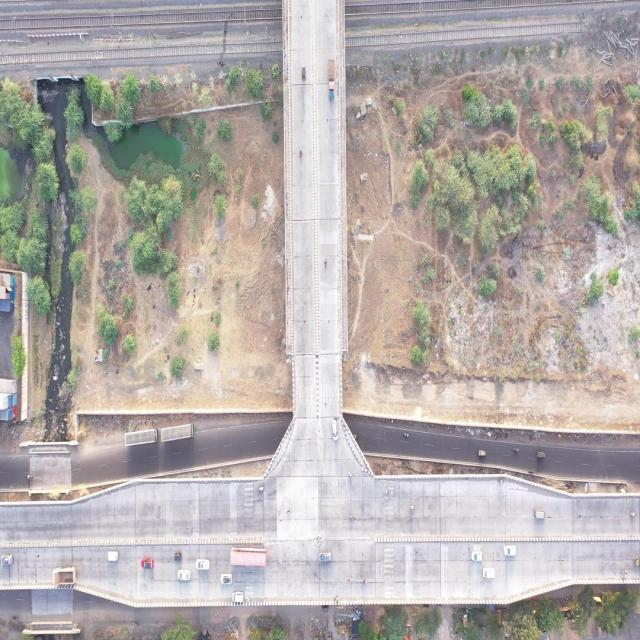3W: (300, 51, 309, 88), (173, 540, 183, 562), (475, 444, 487, 460), (532, 449, 548, 460)
Cars: (138, 548, 156, 576), (331, 414, 344, 452), (193, 553, 212, 576), (104, 546, 123, 568), (220, 564, 234, 593), (0, 547, 15, 570), (176, 566, 191, 588), (313, 553, 337, 566), (500, 542, 517, 558), (482, 566, 496, 581), (468, 548, 482, 562), (532, 506, 546, 520)
LCV: (324, 49, 337, 112)
M2W: (343, 510, 360, 528), (396, 426, 413, 442), (248, 484, 269, 496), (321, 250, 330, 276), (344, 466, 354, 487), (296, 146, 306, 166), (618, 562, 629, 578), (628, 509, 637, 520), (512, 444, 520, 454), (408, 505, 417, 511)
MAV: (162, 415, 198, 458), (117, 422, 159, 454), (226, 544, 279, 569)
Truck: (48, 562, 76, 591)
